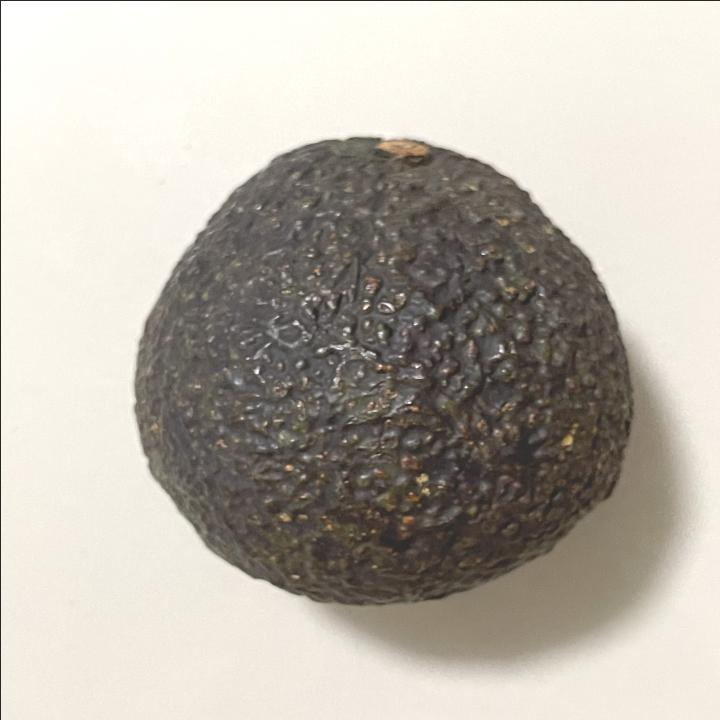Level1: (120, 117, 646, 616)
